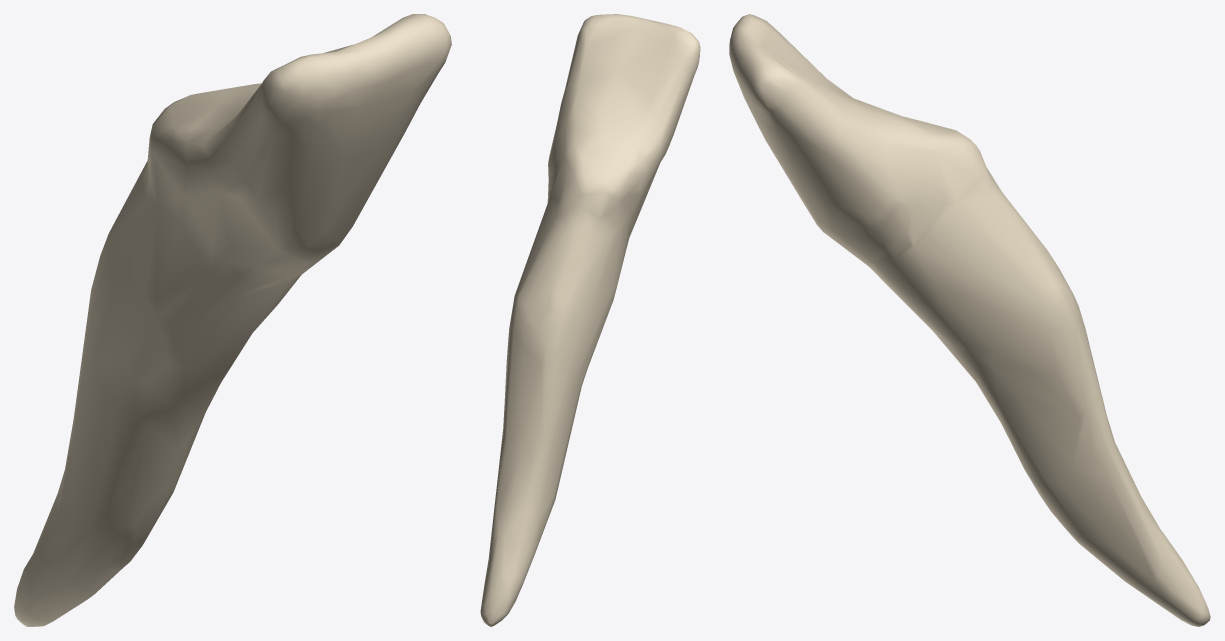
The model's file is lower-medial-incisor-l.glb.
3 views of the same model, side by side, from view 1: azimuth 30°, elevation 25°; view 2: azimuth 150°, elevation 25°; view 3: azimuth 270°, elevation 25° (orthographic). The views are drawn at different scales.
Visible parts, largest first — view 1: Lower medial incisor.l; view 2: Lower medial incisor.l; view 3: Lower medial incisor.l.
Boxes of the visible parts, left/top/right/bottom form: Lower medial incisor.l: left=14, top=14, right=451, bottom=626; Lower medial incisor.l: left=480, top=14, right=700, bottom=626; Lower medial incisor.l: left=729, top=14, right=1210, bottom=626.
Size of the model in its own units: 0.00612 by 0.0247 by 0.0179.
